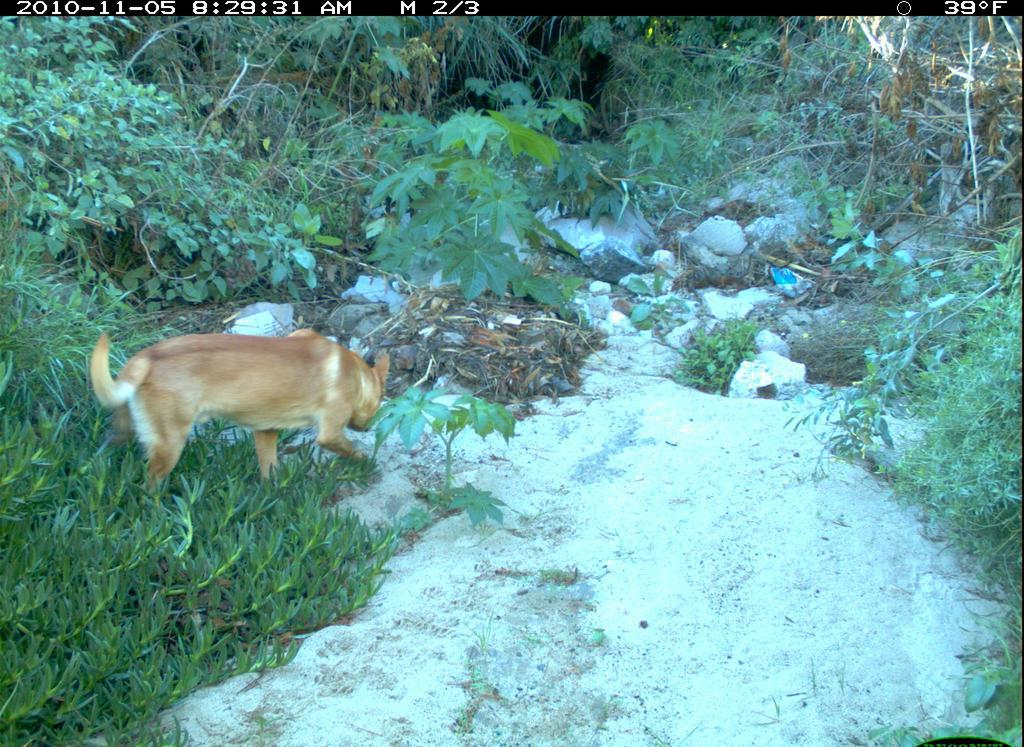dog: (84, 322, 395, 496)
